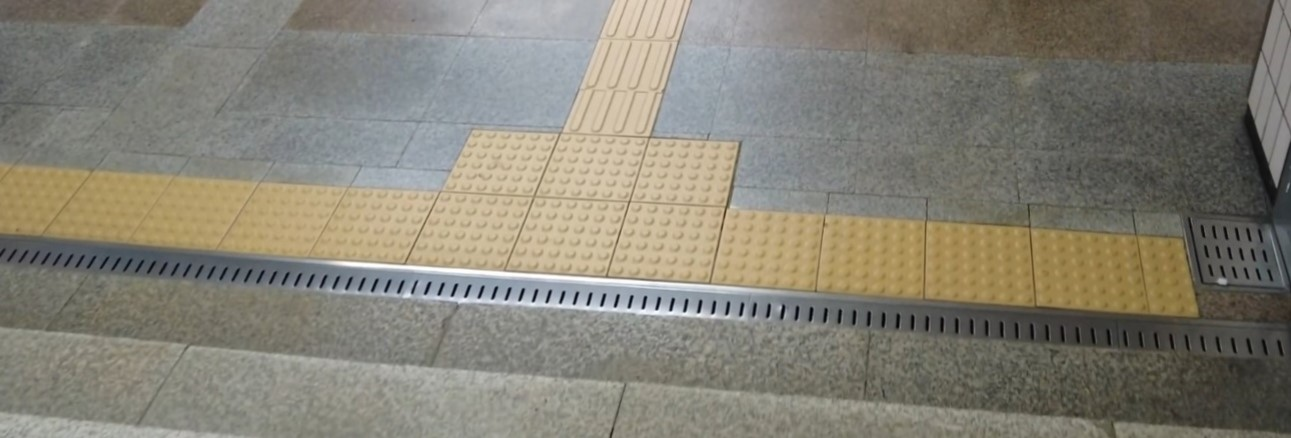guideBlock: (574, 85, 657, 143), (596, 42, 677, 82), (615, 2, 681, 39)
warningBlock: (1034, 227, 1148, 324), (923, 223, 1034, 304), (818, 219, 924, 300), (414, 193, 516, 266), (514, 196, 600, 282), (723, 210, 822, 284), (613, 212, 716, 278), (68, 171, 150, 245), (246, 186, 330, 255), (152, 178, 237, 245), (326, 190, 407, 259), (547, 142, 634, 199), (4, 165, 68, 237), (645, 139, 727, 195), (1141, 236, 1197, 312), (467, 134, 538, 190)
